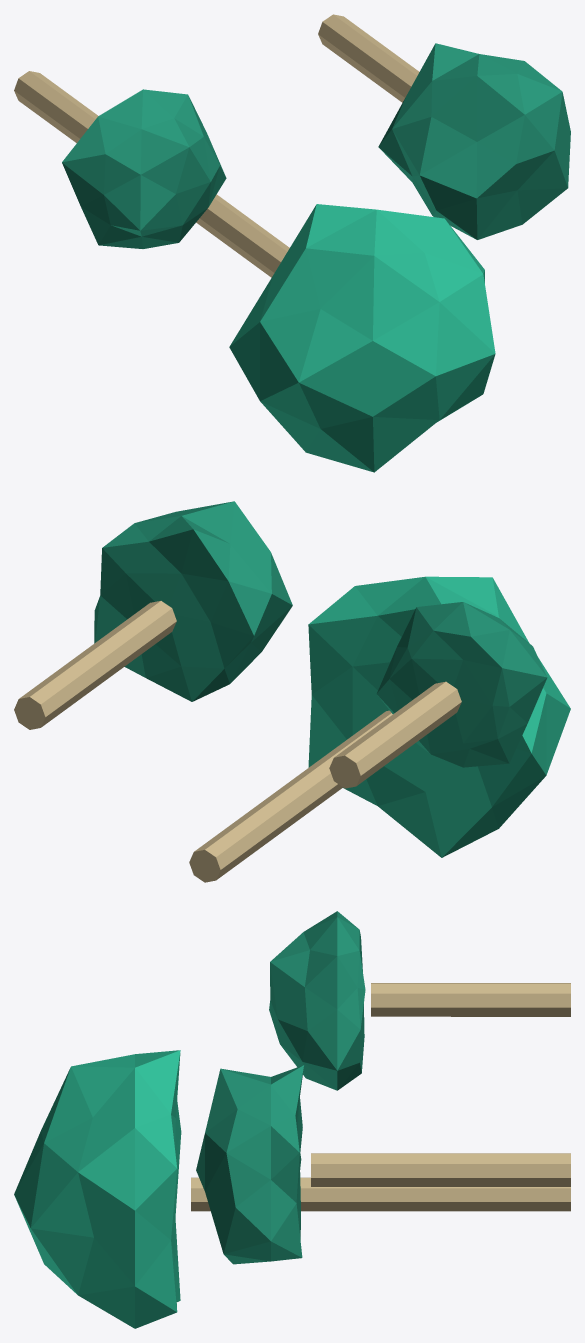
Rendered from bulbes.glb.
3 views of the same model, one above another, from view 1: azimuth 30°, elevation 25°; view 2: azimuth 150°, elevation 25°; view 3: azimuth 270°, elevation 25° (orthographic). The views are drawn at different scales.
Parts seen in each view (by area): view 1: tete0, tete1, tete2, tige1, tige0, tige2; view 2: tete0, tete1, tete2, tige0, tige1, tige2; view 3: tete0, tete1, tete2, tige1, tige0, tige2.
Part boxes in pixels (x1,y1,x2,y2): tete0: [229, 204, 495, 472]; tete1: [378, 43, 570, 239]; tete2: [62, 89, 226, 248]; tige1: [318, 14, 419, 102]; tige0: [196, 194, 289, 277]; tige2: [14, 71, 98, 142]; tete0: [308, 576, 570, 857]; tete1: [94, 501, 292, 701]; tete2: [376, 602, 547, 767]; tige0: [189, 710, 392, 882]; tige1: [14, 601, 176, 729]; tige2: [329, 681, 461, 788]; tete0: [14, 1050, 181, 1328]; tete1: [196, 1065, 303, 1264]; tete2: [269, 911, 365, 1090]; tige1: [311, 1153, 570, 1186]; tige0: [191, 1177, 570, 1211]; tige2: [371, 983, 570, 1016].
Bounding box in the file's own units: 2.78 × 1.86 × 2.79.
